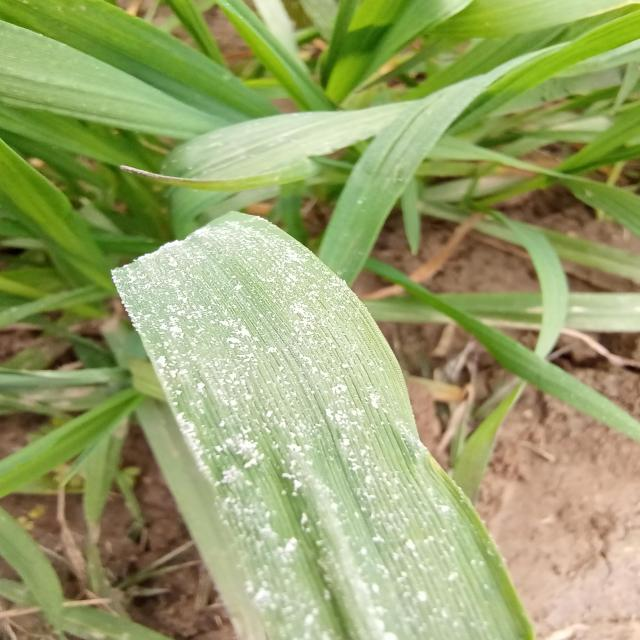Powdery_Mildew: (120, 216, 533, 637)
